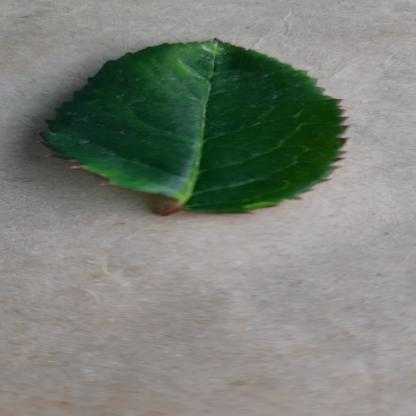normal: (34, 38, 356, 214)
